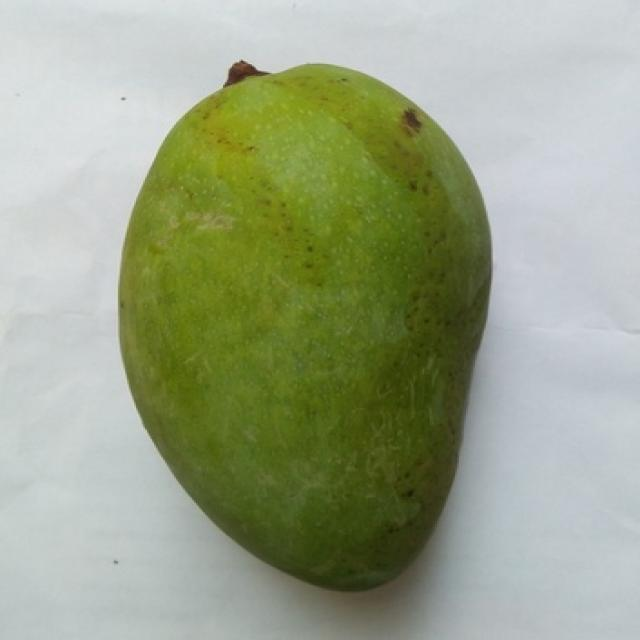Mango: (120, 64, 490, 589)
